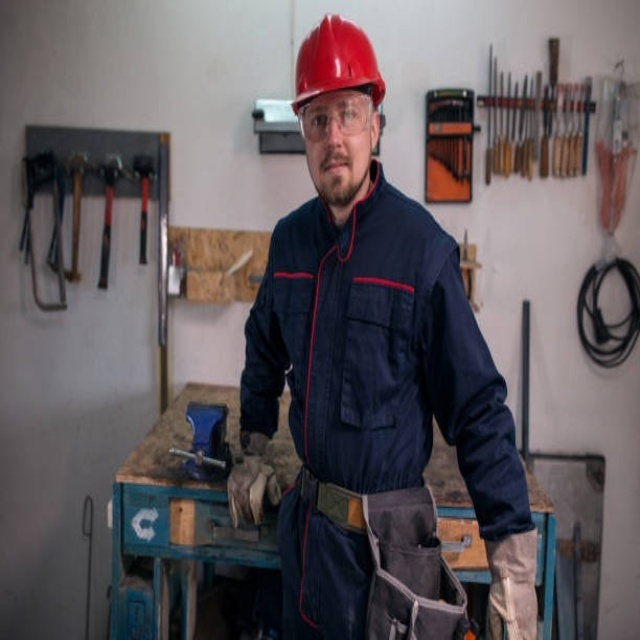Gafas: (300, 94, 375, 142)
Guantes: (484, 527, 541, 640), (226, 432, 280, 528)
Sin_mascara: (315, 149, 355, 190)
